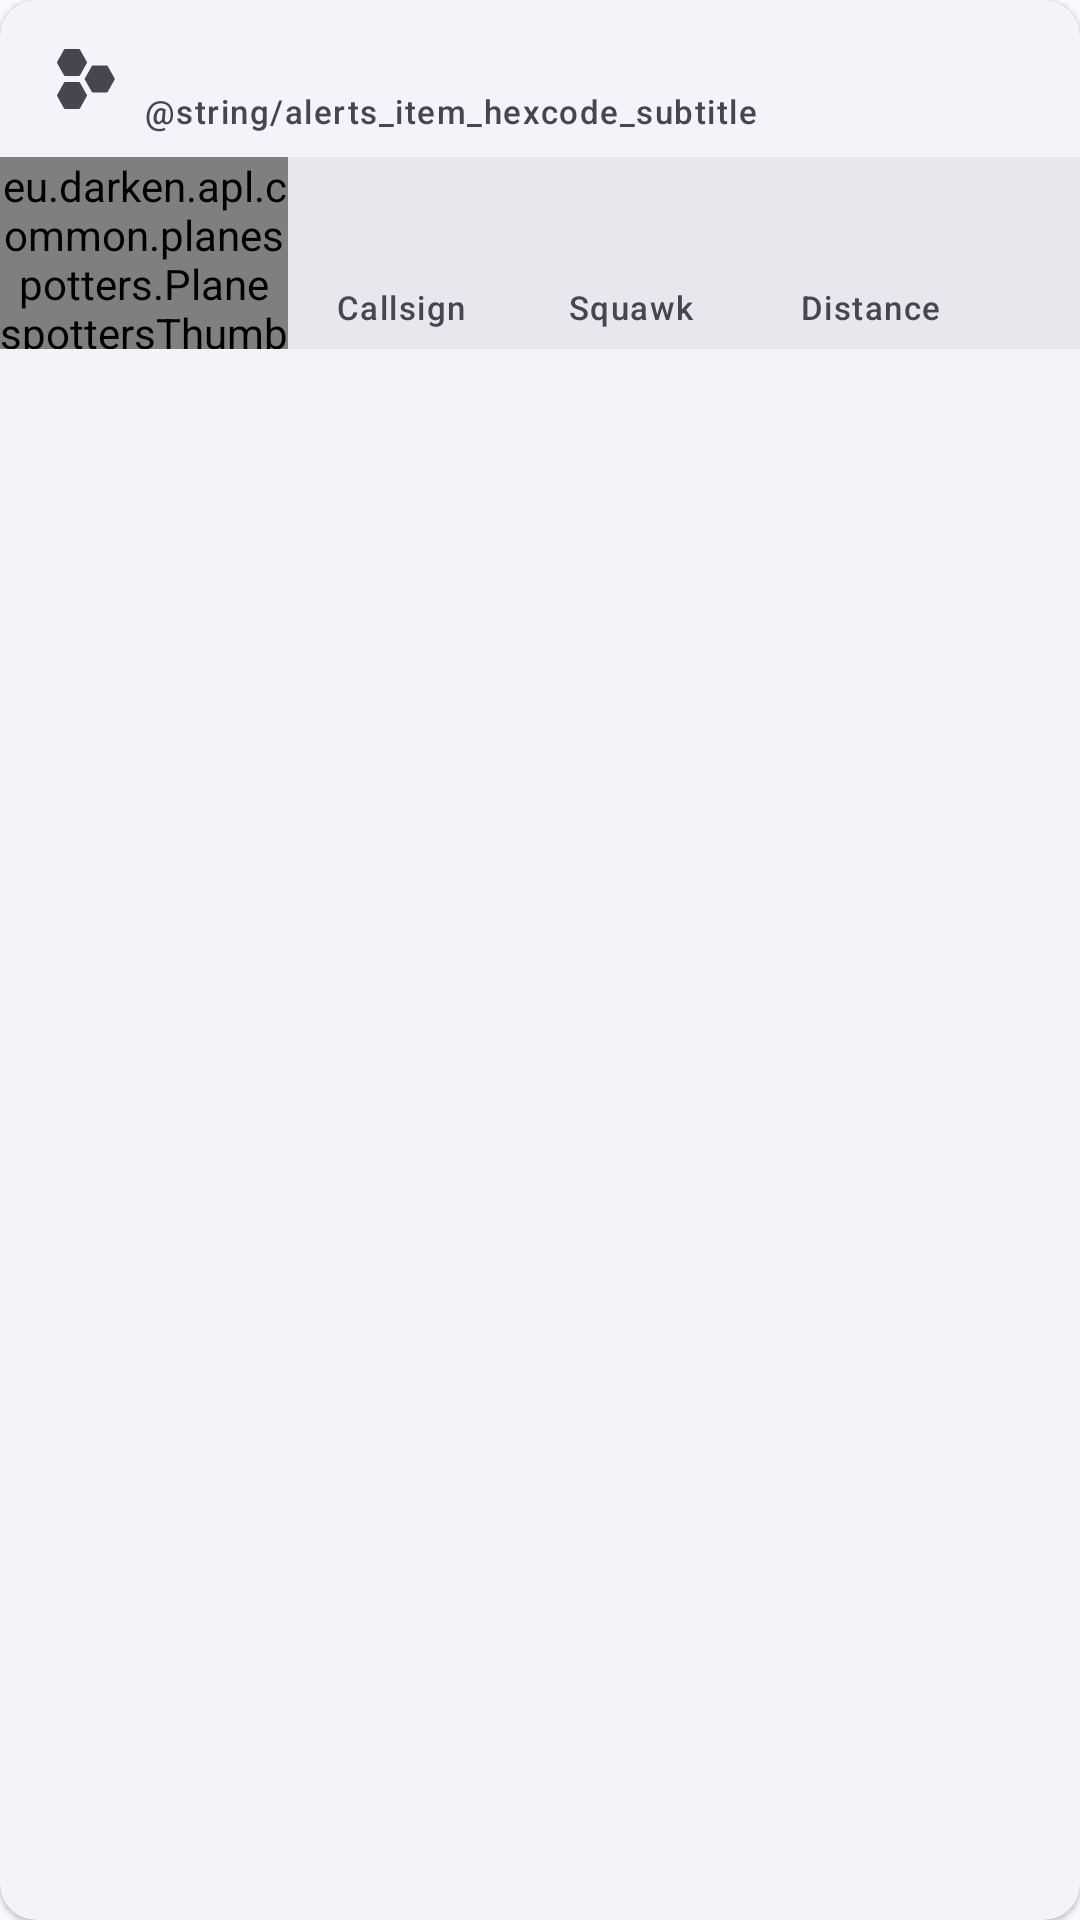

Screen size 1080 × 1920. Icon name, then its box in pixels as BBox(x1, y1, x2, y2):
hexagon multiple: BBox(57, 49, 115, 109)
